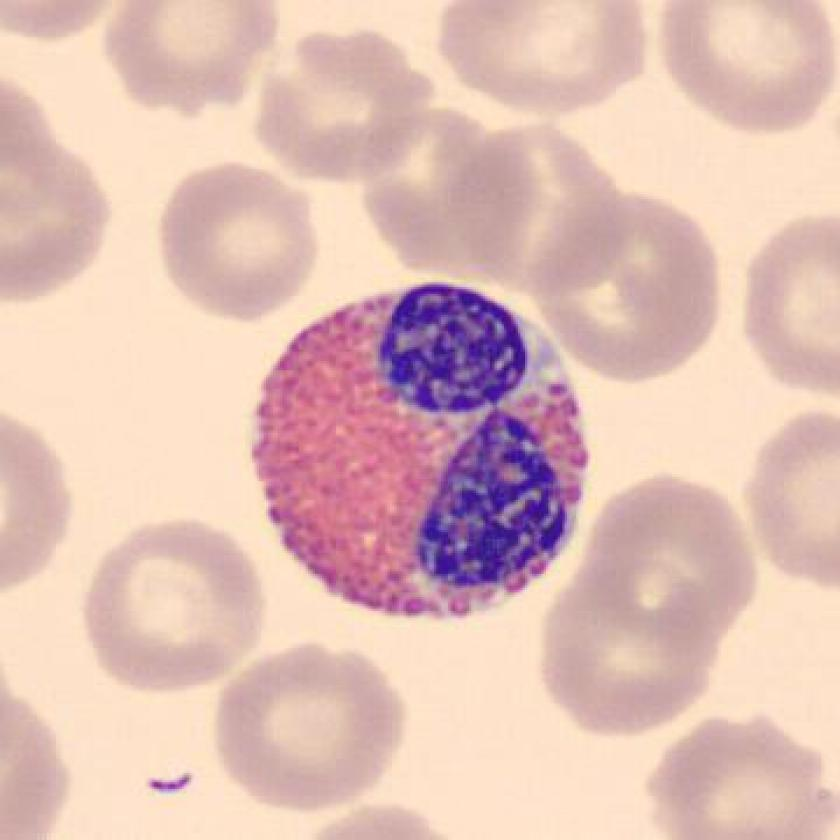eosinophil: (244, 277, 601, 631)
